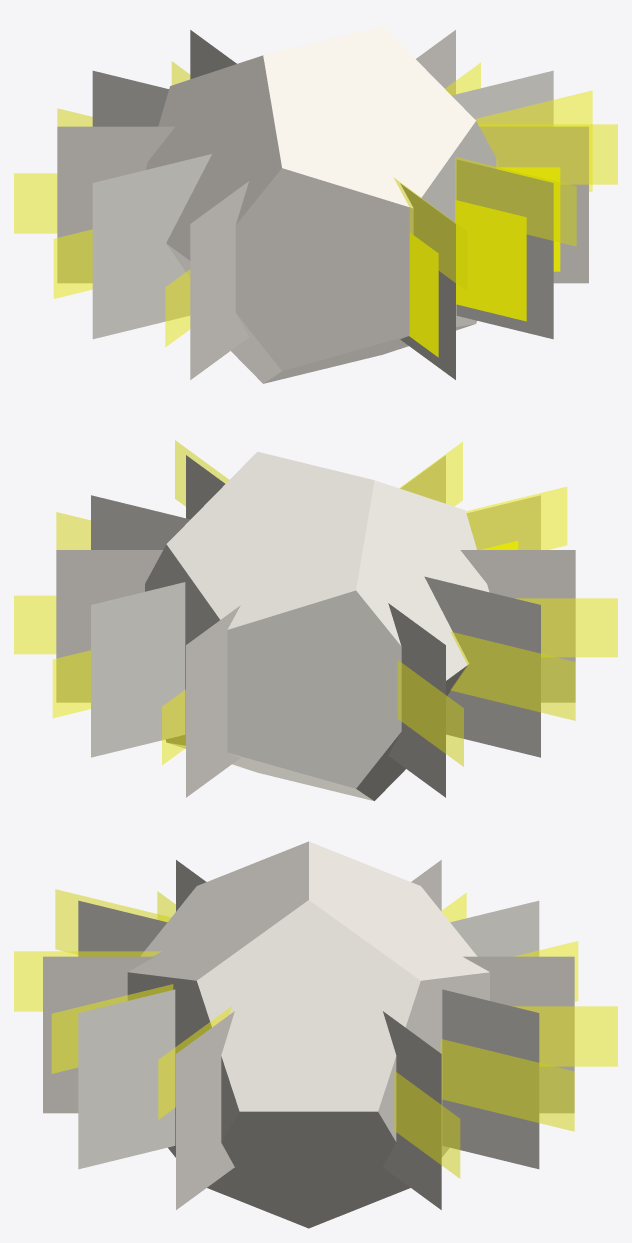
Rendered from dodecahedron.glb.
The picture shows the model from 3 angles, top to bottom: view 1: azimuth 30°, elevation 25°; view 2: azimuth 150°, elevation 25°; view 3: azimuth 270°, elevation 25°; orthographic projection. The views are drawn at different scales.
Parts seen in each view (by area): view 1: TriQR_Body, TriQR_Label (×9), TriQR_FaceSurface_face-7, TriQR_FaceSurface_face-8, TriQR_FaceSurface_face-3, TriQR_FaceSurface_face-6, TriQR_FaceSurface_face-2, TriQR_QR_face-3, TriQR_FaceSurface_face-4, TriQR_FaceSurface_name-face, TriQR_FaceSurface_face-9, TriQR_QR_face-4 (+3 smaller); view 2: TriQR_Body, TriQR_Label (×10), TriQR_FaceSurface_face-11, TriQR_FaceSurface_face-7, TriQR_FaceSurface_face-6, TriQR_FaceSurface_face-12, TriQR_FaceSurface_face-8, TriQR_FaceSurface_face-10, TriQR_FaceSurface_name-face, TriQR_FaceSurface_face-5, TriQR_FaceSurface_face-2, TriQR_FaceSurface_face-4; view 3: TriQR_Body, TriQR_Label (×8), TriQR_FaceSurface_face-3, TriQR_FaceSurface_face-11, TriQR_FaceSurface_face-10, TriQR_FaceSurface_face-4, TriQR_FaceSurface_face-12, TriQR_FaceSurface_face-2, TriQR_FaceSurface_face-9, TriQR_FaceSurface_face-5, TriQR_FaceSurface_face-8, TriQR_FaceSurface_face-6.
Boxes of the visible parts, left/top/right/bottom form: TriQR_Body: left=145, top=26, right=498, bottom=383; TriQR_Label (×9): left=14, top=62, right=617, bottom=347; TriQR_FaceSurface_face-7: left=92, top=154, right=211, bottom=339; TriQR_FaceSurface_face-8: left=57, top=126, right=174, bottom=283; TriQR_FaceSurface_face-3: left=456, top=159, right=553, bottom=339; TriQR_FaceSurface_face-6: left=190, top=181, right=248, bottom=379; TriQR_FaceSurface_face-2: left=480, top=126, right=588, bottom=283; TriQR_QR_face-3: left=455, top=200, right=526, bottom=321; TriQR_FaceSurface_face-4: left=400, top=183, right=455, bottom=379; TriQR_FaceSurface_name-face: left=451, top=70, right=553, bottom=126; TriQR_FaceSurface_face-9: left=92, top=70, right=168, bottom=126; TriQR_QR_face-4: left=409, top=232, right=438, bottom=357; TriQR_Body: left=145, top=451, right=489, bottom=801; TriQR_Label (×10): left=14, top=440, right=617, bottom=766; TriQR_FaceSurface_face-11: left=91, top=582, right=185, bottom=757; TriQR_FaceSurface_face-7: left=424, top=576, right=540, bottom=757; TriQR_FaceSurface_face-6: left=460, top=550, right=575, bottom=702; TriQR_FaceSurface_face-12: left=56, top=550, right=162, bottom=702; TriQR_FaceSurface_face-8: left=388, top=603, right=445, bottom=797; TriQR_FaceSurface_face-10: left=186, top=605, right=240, bottom=797; TriQR_FaceSurface_name-face: left=91, top=495, right=190, bottom=549; TriQR_FaceSurface_face-5: left=466, top=495, right=540, bottom=549; TriQR_FaceSurface_face-2: left=186, top=455, right=224, bottom=519; TriQR_FaceSurface_face-4: left=400, top=455, right=445, bottom=503; TriQR_Body: left=127, top=841, right=489, bottom=1228; TriQR_Label (×8): left=14, top=889, right=617, bottom=1178; TriQR_FaceSurface_face-3: left=78, top=989, right=175, bottom=1169; TriQR_FaceSurface_face-11: left=442, top=989, right=539, bottom=1169; TriQR_FaceSurface_face-10: left=463, top=956, right=574, bottom=1113; TriQR_FaceSurface_face-4: left=43, top=956, right=154, bottom=1113; TriQR_FaceSurface_face-12: left=383, top=1011, right=441, bottom=1209; TriQR_FaceSurface_face-2: left=176, top=1011, right=234, bottom=1209; TriQR_FaceSurface_face-9: left=450, top=900, right=539, bottom=956; TriQR_FaceSurface_face-5: left=78, top=900, right=167, bottom=956; TriQR_FaceSurface_face-8: left=411, top=860, right=441, bottom=911; TriQR_FaceSurface_face-6: left=176, top=860, right=206, bottom=911.
Bounding box in the file's own units: 4.3 × 2.52 × 4.2.
29 materials, 16 textured.
